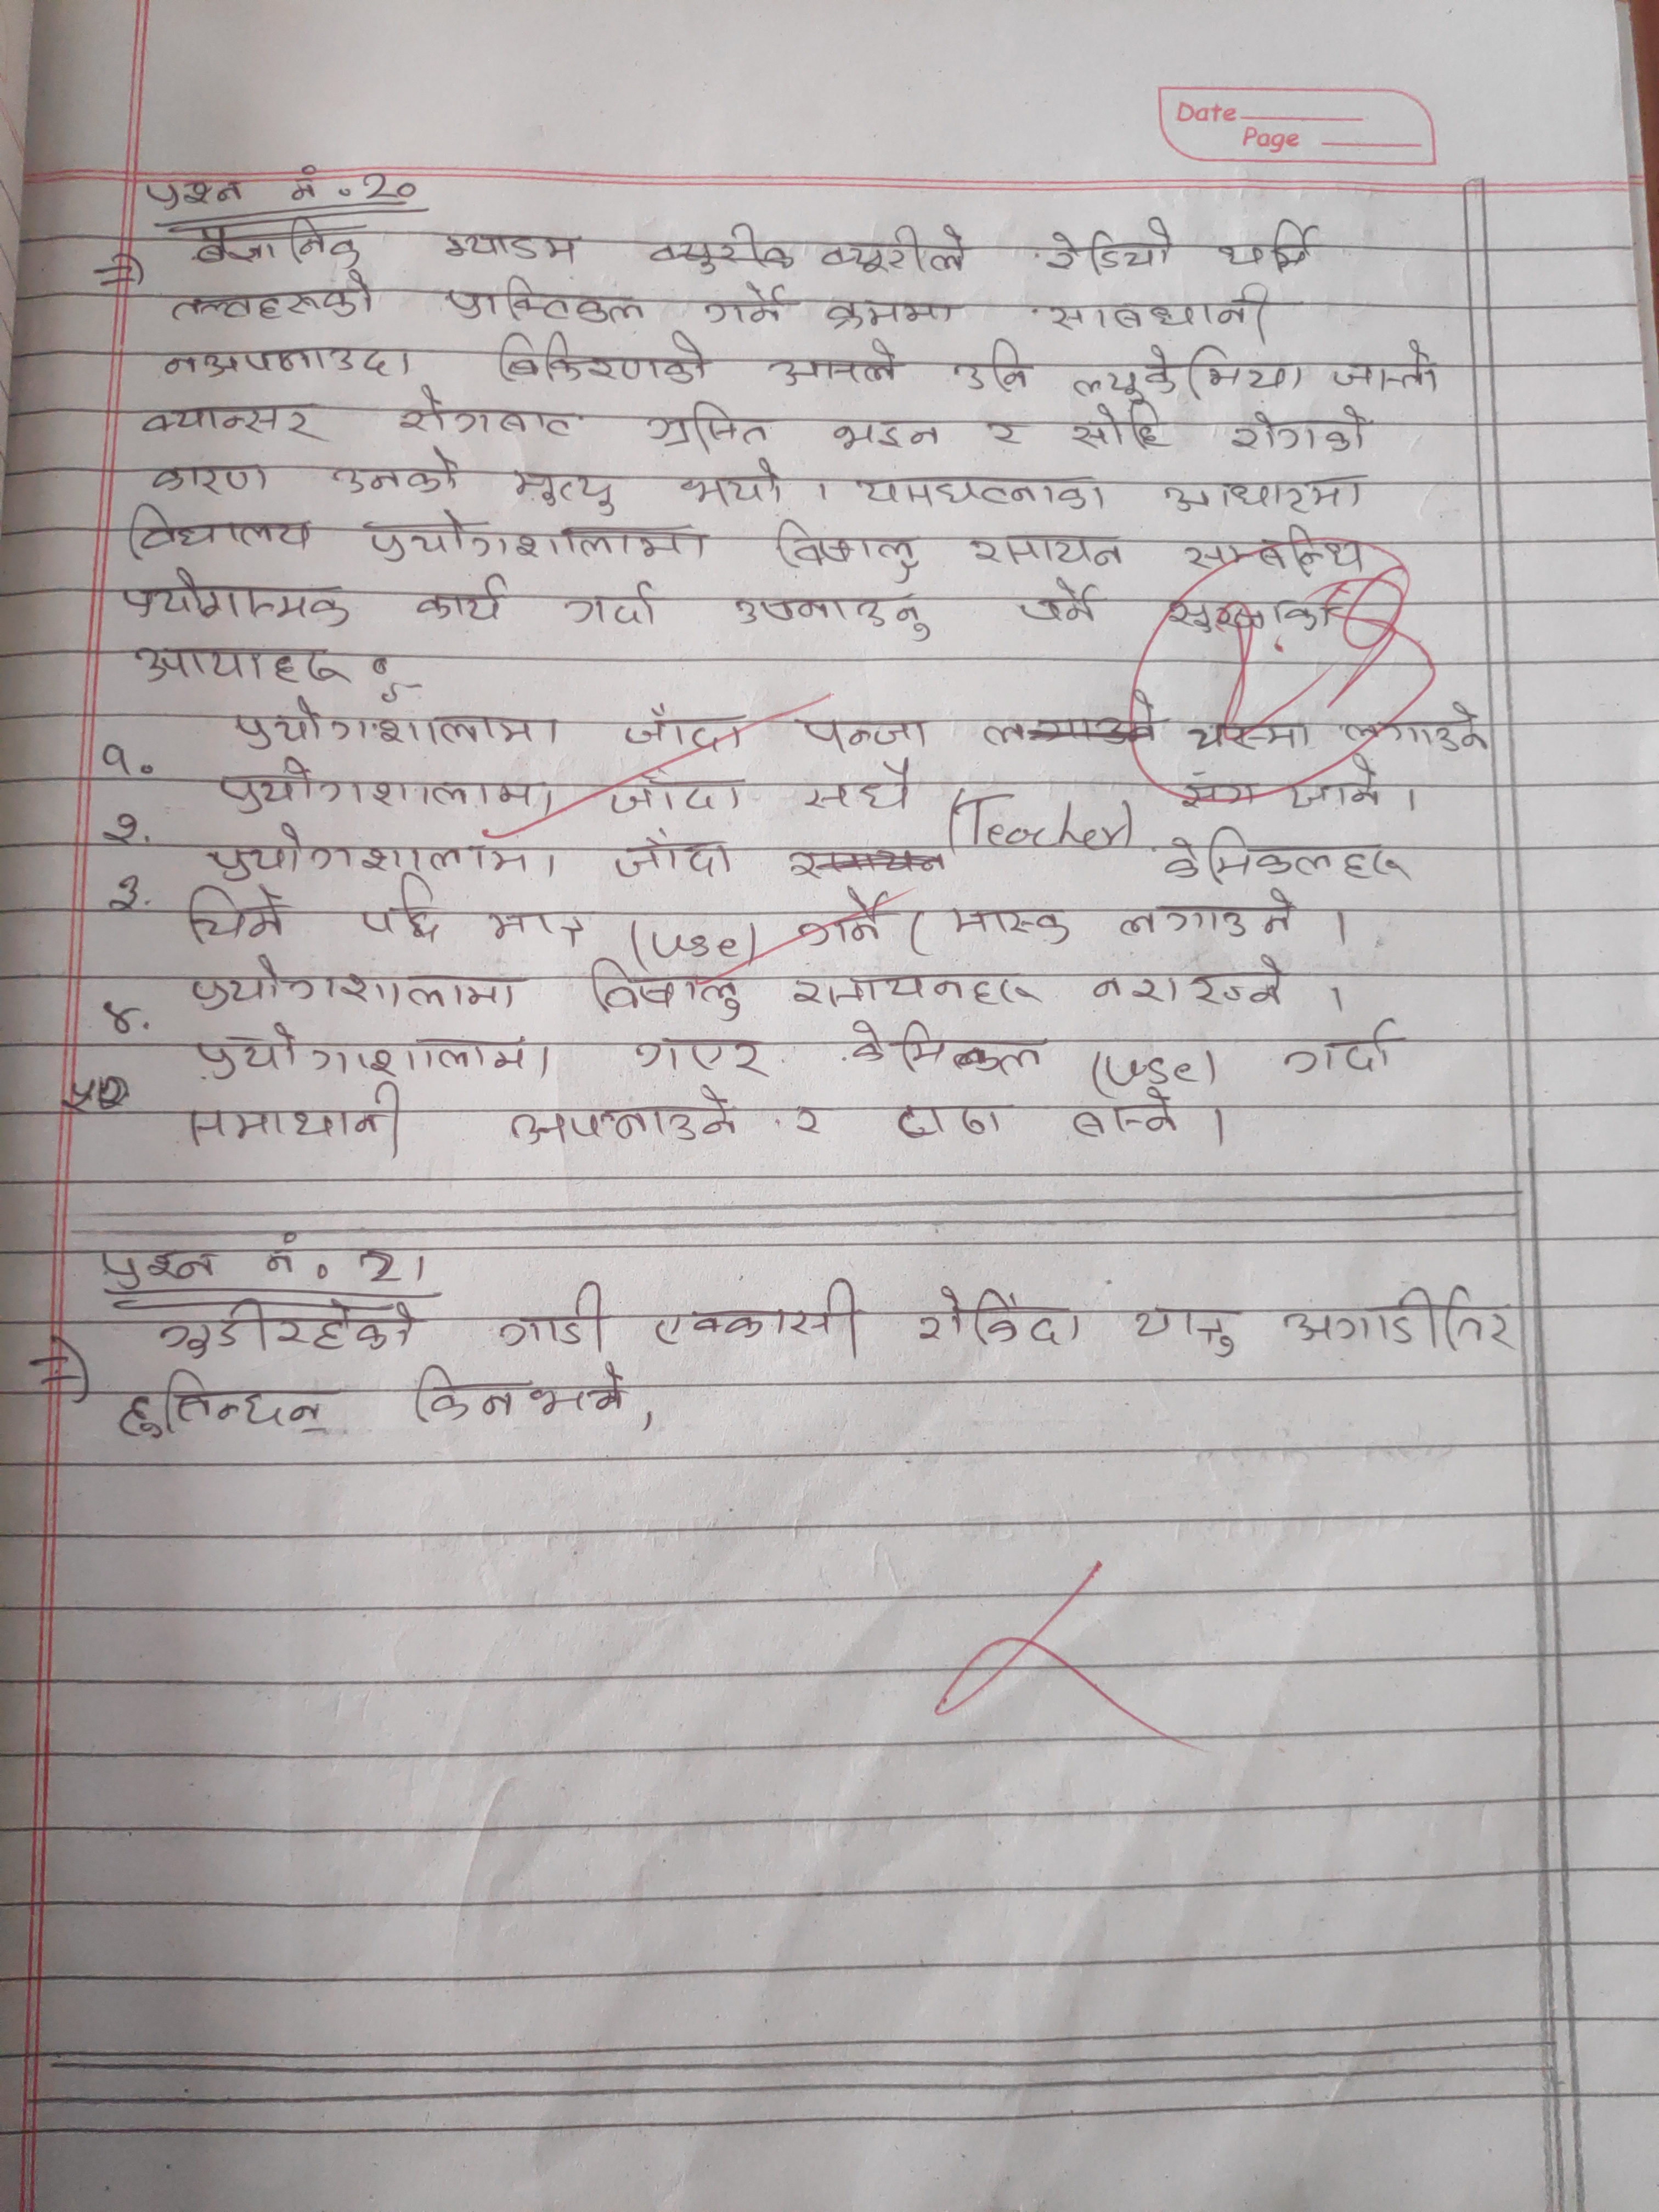text: (192, 1021, 554, 1080), (356, 507, 714, 564), (214, 759, 558, 819), (206, 824, 558, 880), (186, 956, 521, 1014), (181, 1083, 408, 1163), (230, 697, 565, 749), (113, 1369, 336, 1444), (1276, 1289, 1514, 1357), (652, 1278, 863, 1353), (1162, 822, 1412, 883), (1070, 338, 1312, 401), (120, 568, 349, 634), (509, 1085, 739, 1150), (160, 1303, 416, 1359), (493, 324, 713, 388), (852, 470, 1110, 521), (1044, 284, 1276, 340), (849, 1014, 1046, 1076), (413, 1362, 626, 1418), (132, 637, 352, 690), (1093, 954, 1291, 1012), (125, 500, 312, 561), (915, 1285, 1086, 1352), (439, 273, 650, 326), (728, 590, 931, 644), (171, 275, 380, 326), (788, 970, 1039, 1012), (767, 516, 927, 580), (397, 385, 577, 442), (1182, 521, 1371, 575), (1157, 470, 1364, 517), (153, 343, 406, 381), (1114, 888, 1297, 941), (586, 960, 742, 1021), (138, 397, 319, 442), (491, 1278, 606, 1348), (817, 223, 974, 273), (765, 336, 903, 392), (185, 230, 368, 272), (1044, 214, 1176, 272), (605, 831, 735, 888), (326, 448, 462, 502), (1344, 702, 1488, 752), (1276, 1019, 1401, 1076), (643, 226, 795, 273), (1323, 336, 1443, 395), (964, 528, 1124, 571), (181, 878, 286, 944), (1223, 406, 1370, 453), (647, 397, 772, 451), (824, 291, 967, 338), (606, 768, 744, 817), (441, 223, 586, 268), (1126, 1305, 1244, 1359), (356, 878, 448, 946), (1218, 218, 1326, 275), (795, 714, 931, 759), (1283, 754, 1385, 813), (502, 463, 617, 516), (941, 900, 1073, 946), (619, 707, 746, 754), (676, 456, 789, 509), (631, 1035, 762, 1080), (795, 888, 889, 951), (98, 1242, 223, 1289), (802, 759, 917, 810), (1066, 1090, 1183, 1139), (411, 573, 514, 627), (828, 411, 948, 456), (1068, 404, 1169, 456), (474, 907, 599, 949), (145, 462, 275, 502), (885, 1097, 1007, 1139), (948, 338, 1033, 394), (558, 580, 662, 625), (1185, 716, 1321, 751), (1016, 580, 1107, 629), (136, 172, 251, 211), (702, 279, 784, 331), (1183, 777, 1263, 815), (352, 171, 422, 209), (98, 995, 146, 1042), (263, 1226, 305, 1280), (96, 869, 141, 918), (94, 740, 138, 786), (99, 806, 143, 852), (788, 1103, 835, 1144), (289, 158, 328, 207), (981, 416, 1033, 451)
